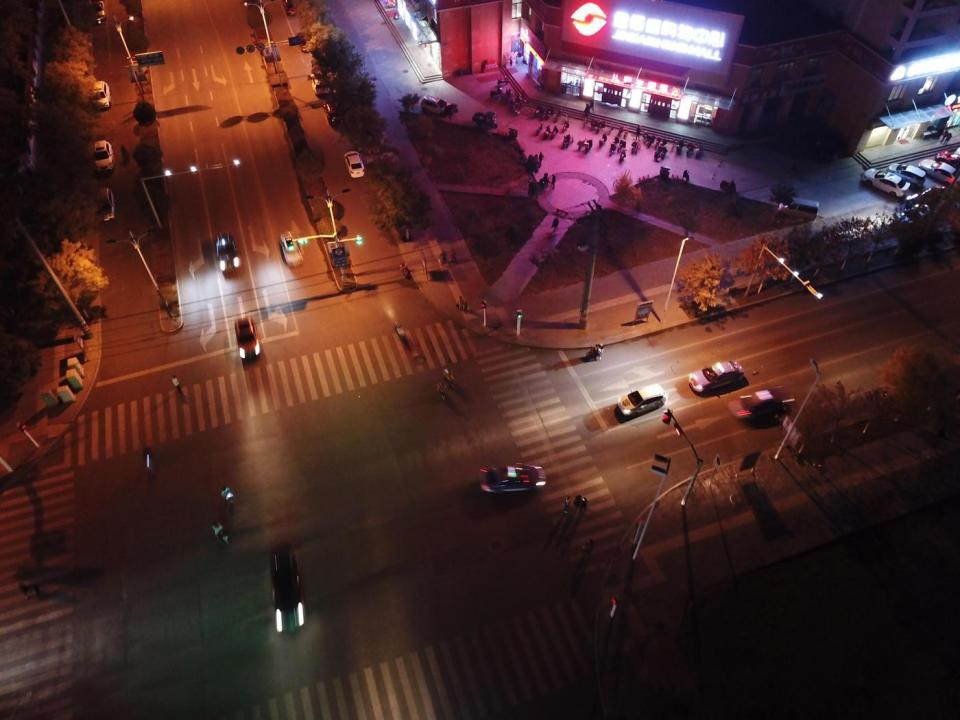car: (268, 543, 306, 634), (730, 384, 794, 420), (688, 361, 743, 396), (479, 462, 545, 490), (616, 384, 665, 418), (862, 168, 911, 197), (809, 124, 842, 161), (234, 315, 261, 360), (906, 187, 952, 212), (918, 158, 958, 186), (886, 162, 926, 188), (278, 230, 304, 267), (218, 233, 237, 271), (93, 189, 116, 220), (92, 139, 114, 171), (420, 95, 452, 116), (88, 80, 110, 109), (935, 151, 959, 174), (323, 100, 344, 126), (345, 151, 364, 177), (296, 31, 315, 54), (91, 1, 106, 24), (282, 0, 298, 15)
van: (778, 197, 818, 222), (310, 71, 330, 95)
